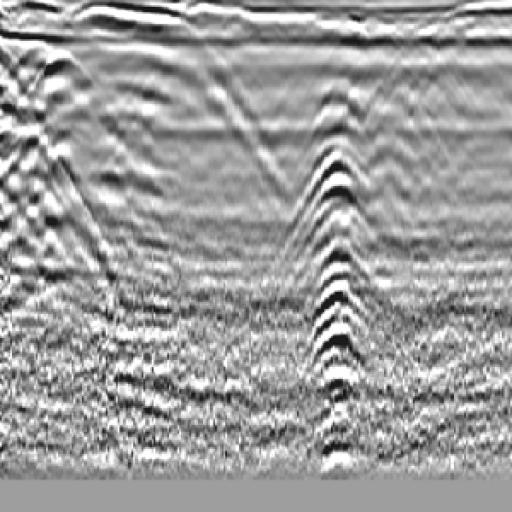non-metallic: (1, 32, 163, 272), (304, 82, 375, 468)
